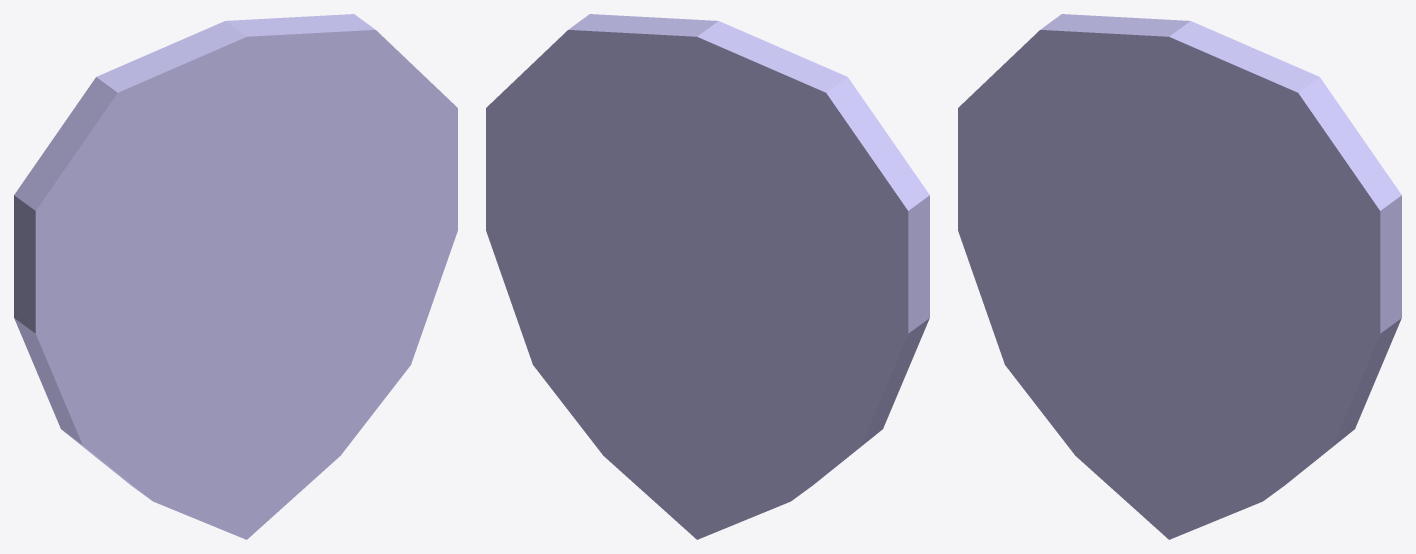
The model's file is badge_buzz_helmet.glb.
3 renders of one model, left to right at view 1: azimuth 30°, elevation 25°; view 2: azimuth 150°, elevation 25°; view 3: azimuth 330°, elevation 25°, orthographic.
Visible parts, largest first — view 1: badge; view 2: badge; view 3: badge.
Part boxes in pixels (<box>): badge: <box>14,14,457,539</box>; badge: <box>486,14,929,539</box>; badge: <box>958,14,1401,539</box>.
Size of the model in its own units: 1.8 by 2.05 by 0.16.
